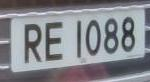0: (82, 16, 104, 61)
1: (71, 16, 86, 63)
8: (119, 13, 138, 59), (102, 15, 121, 59)
E: (42, 17, 67, 67)
R: (21, 18, 45, 70)
